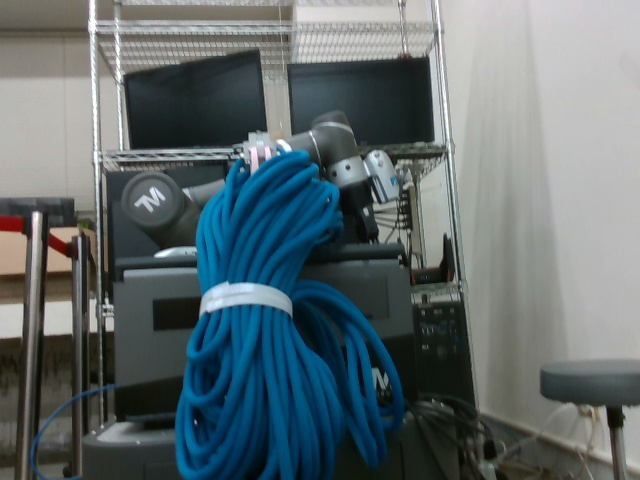rope: (177, 151, 401, 477)
